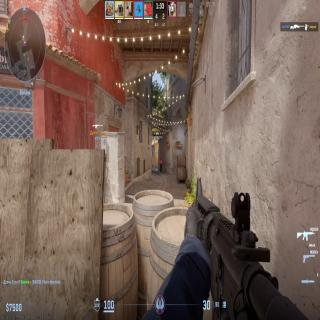T-Body: (160, 158, 162, 172)
T-Head: (160, 158, 161, 161)
